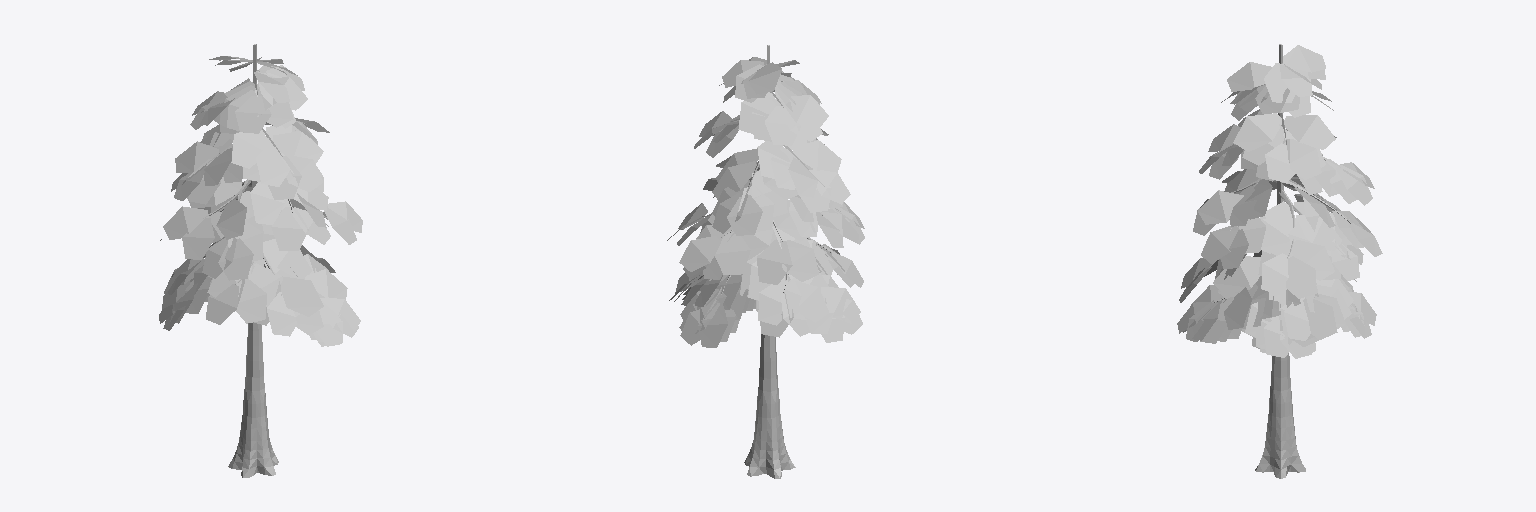
The model's file is tree_pine_tall_01.obj.
3 views of the same model, side by side, from view 1: azimuth 30°, elevation 25°; view 2: azimuth 150°, elevation 25°; view 3: azimuth 270°, elevation 25° (orthographic).
Parts seen in each view (by area): view 1: tree; view 2: tree; view 3: tree.
Part boxes in pixels (x1,y1,x2,y2): tree: (159,44,362,477); tree: (667,45,864,478); tree: (1177,44,1382,478).
Bounding box in the file's own units: 11.8 × 26.3 × 11.57.